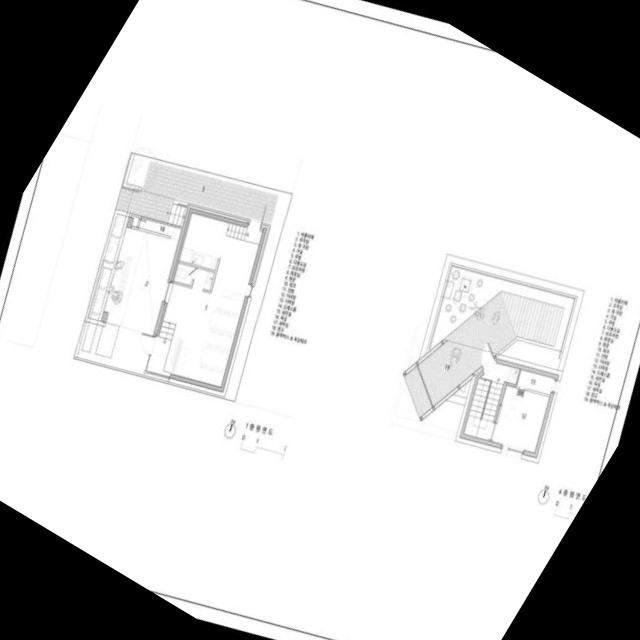background: (0, 0, 640, 640)
space_balconi: (418, 262, 577, 406)
space_bedroom: (492, 385, 549, 453)
space_front: (147, 336, 171, 376)
space_kitchen: (179, 212, 228, 270)
space_living_room: (163, 236, 259, 386)
space_other: (517, 369, 554, 394), (483, 363, 519, 384), (131, 215, 139, 227)
space_staircase: (464, 377, 503, 440), (226, 223, 262, 244), (159, 321, 176, 340)
space_toilet: (192, 268, 215, 290), (173, 263, 195, 285)
